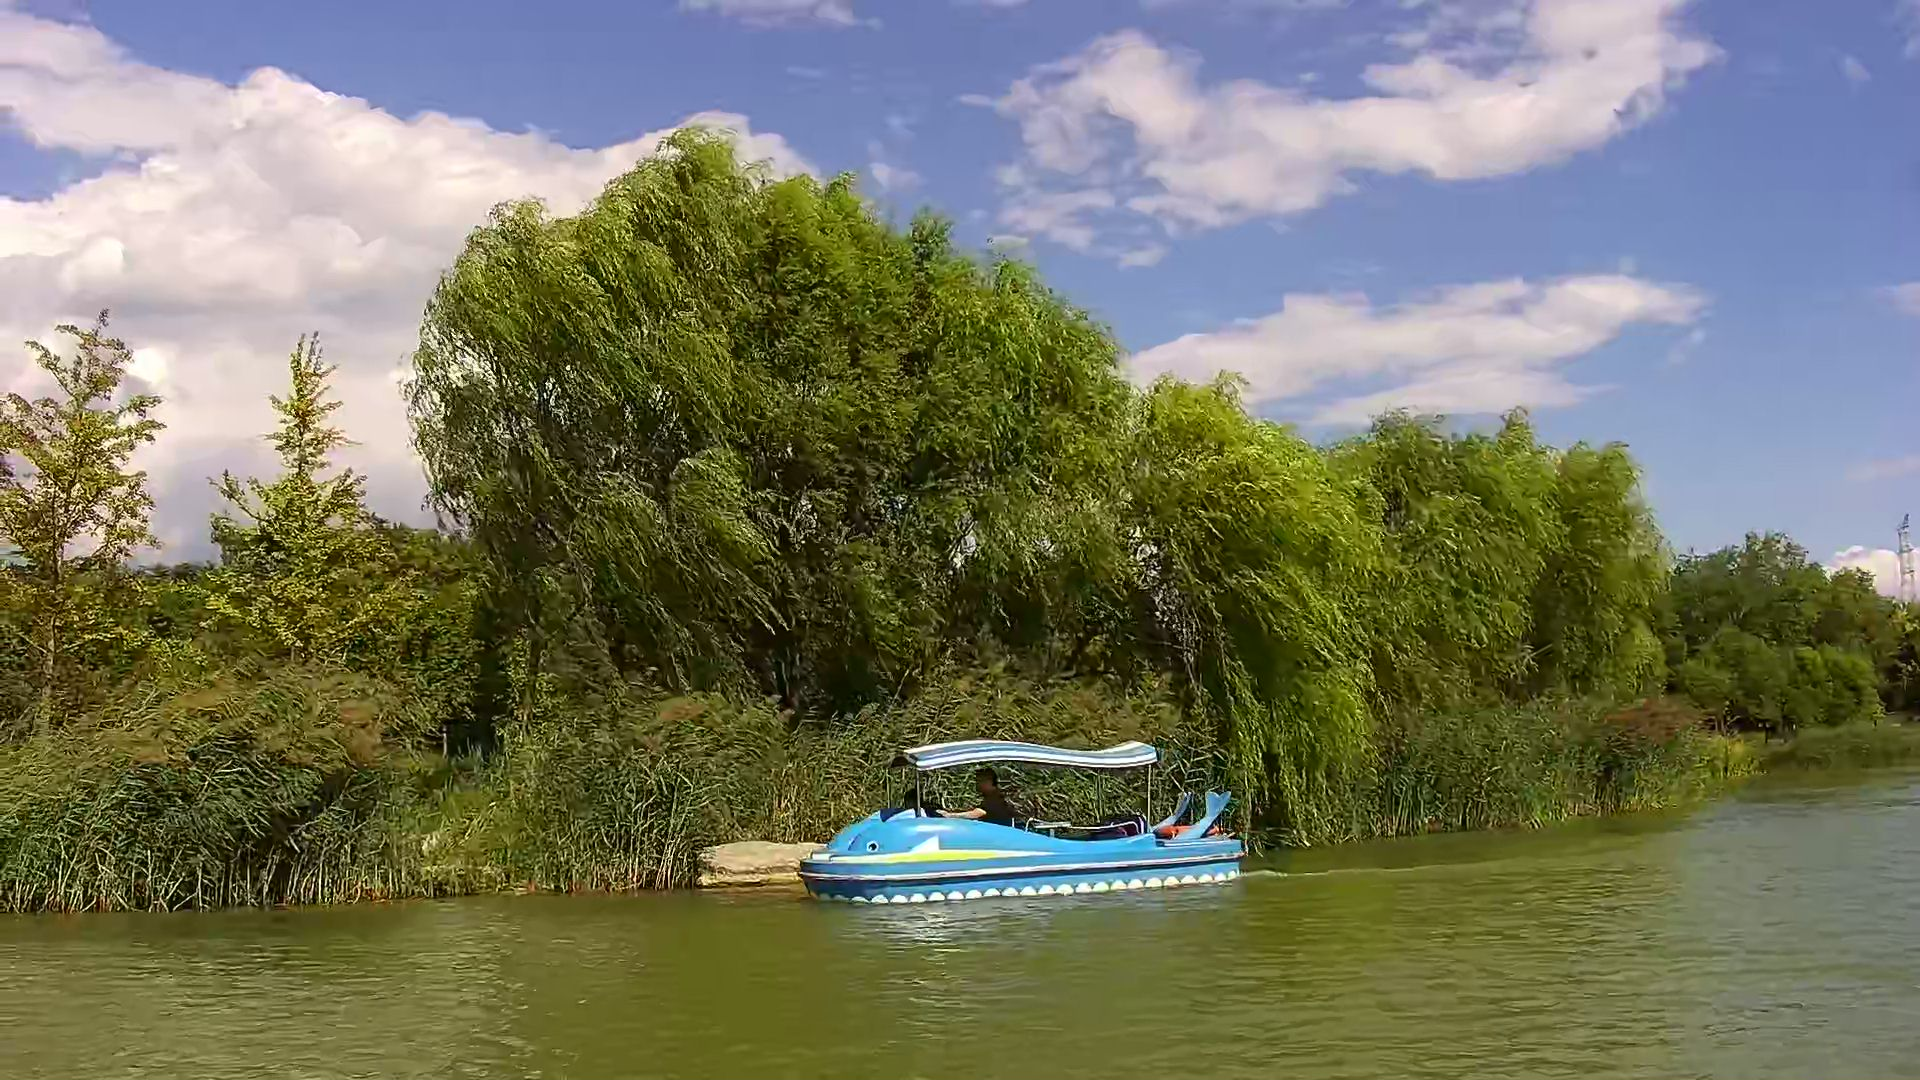boat: (795, 736, 1248, 903)
person: (958, 768, 1016, 829)
rock: (690, 841, 820, 891)
